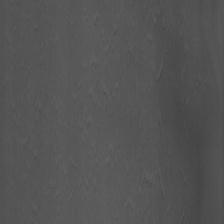silk_spot: (81, 16, 169, 191)
